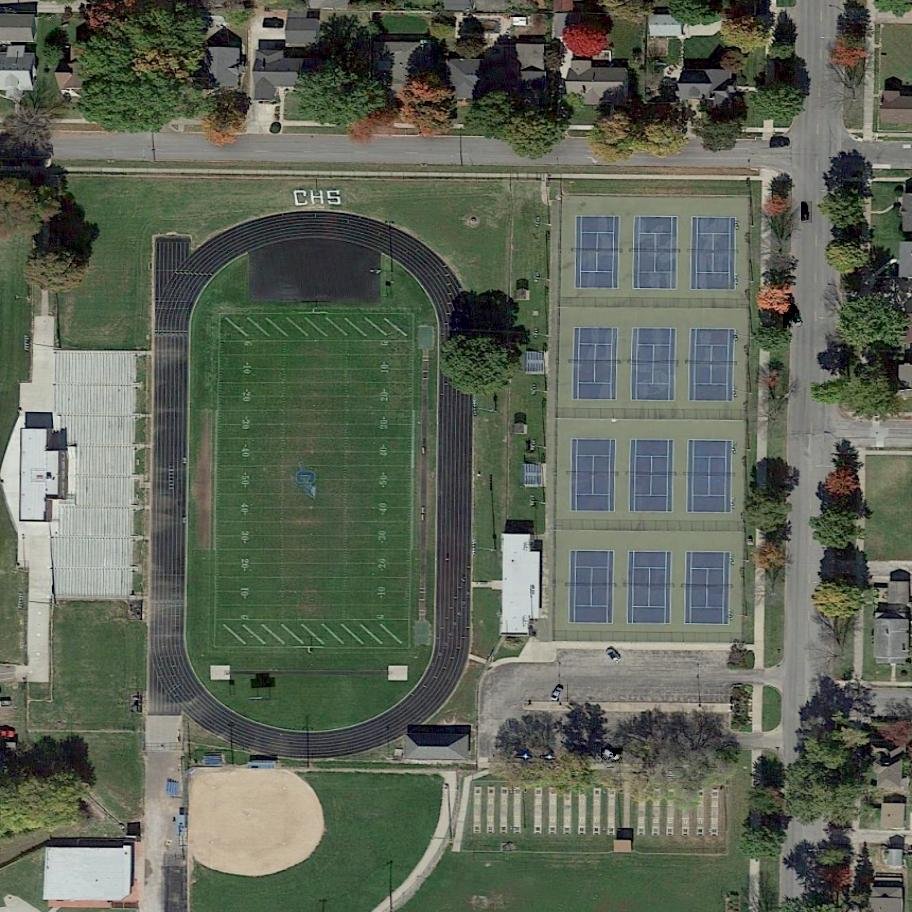small-vehicle: (784, 302, 808, 331), (604, 645, 624, 666), (550, 682, 569, 704), (600, 748, 623, 765), (802, 201, 811, 223)
